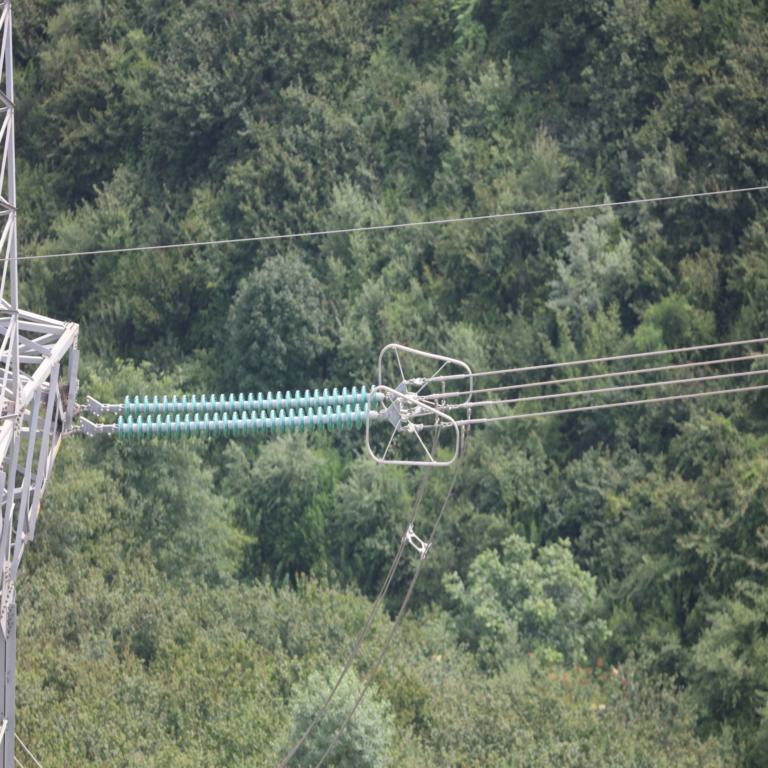nest: (43, 386, 73, 433)
